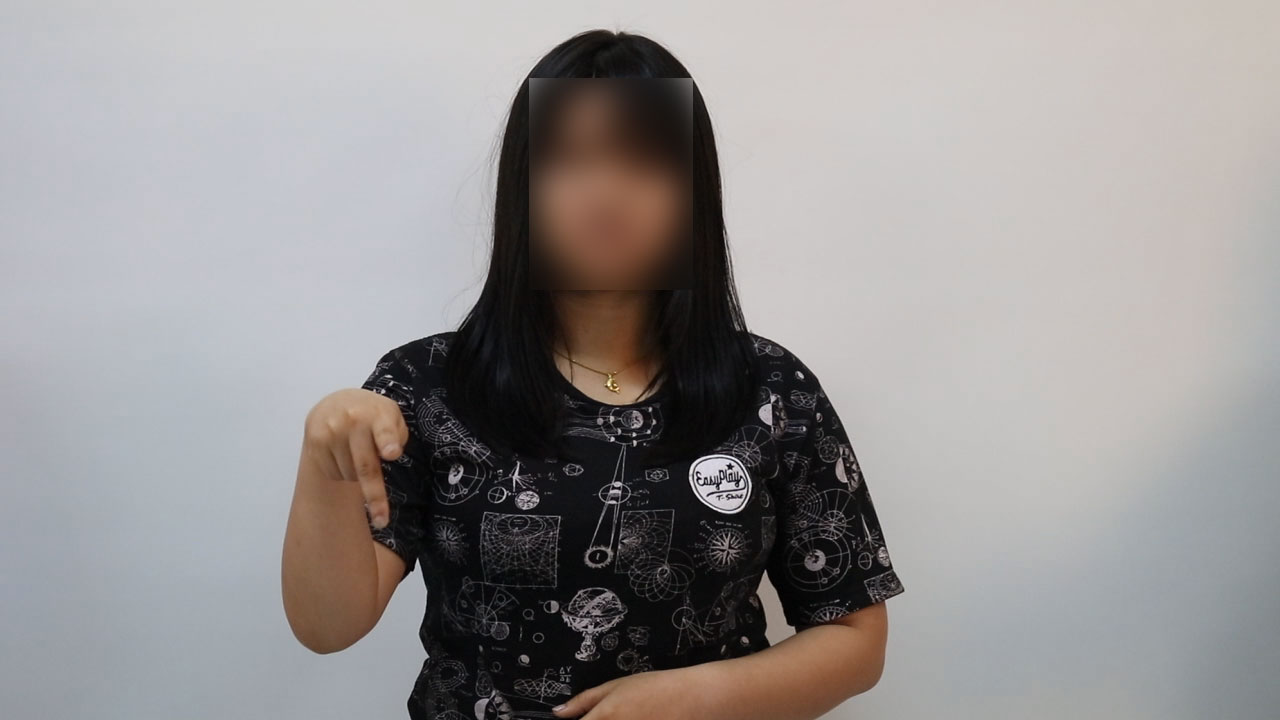por: (300, 376, 418, 541)
